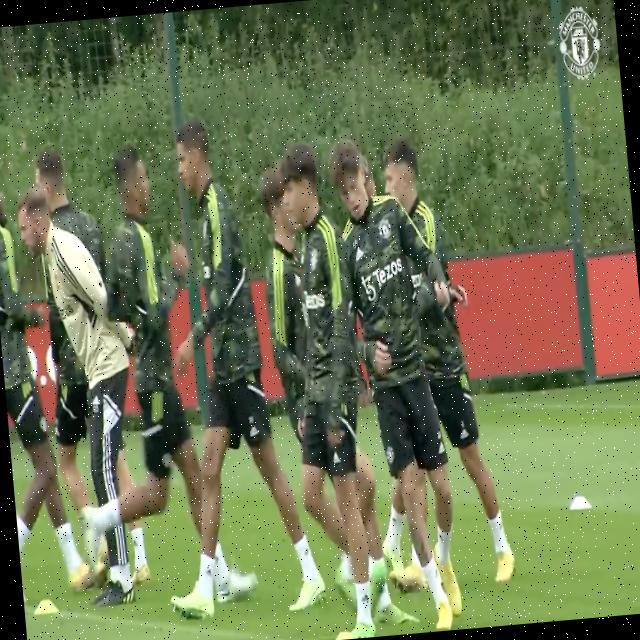Adidas: (354, 244, 365, 263), (248, 425, 260, 439), (91, 392, 101, 407), (360, 589, 369, 604), (205, 564, 213, 577)
